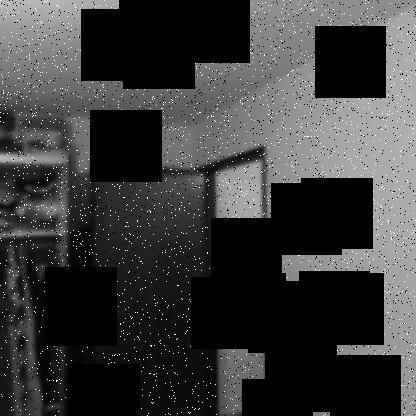Porte: (88, 142, 272, 415)
